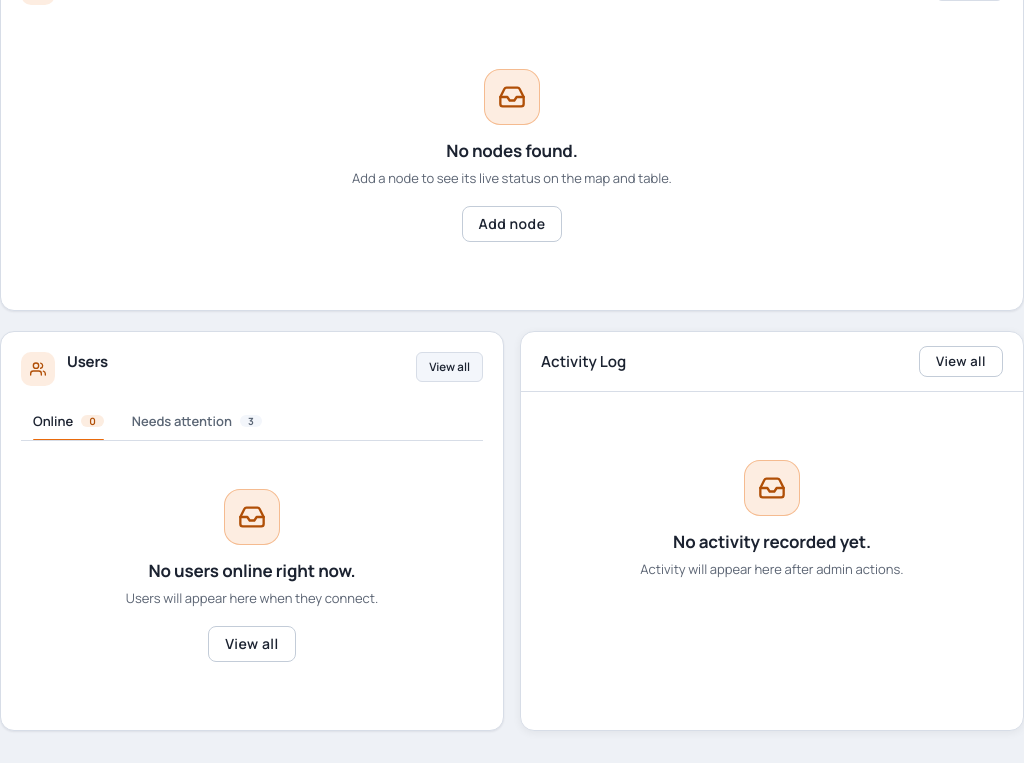
Test case: ServerStats resilience › lists users needing attention with reasons
(page scrolled)
Click the text "Needs attention".
click(182, 421)  # box top-left (132, 415), bottom-right (232, 428)
(page scrolled)
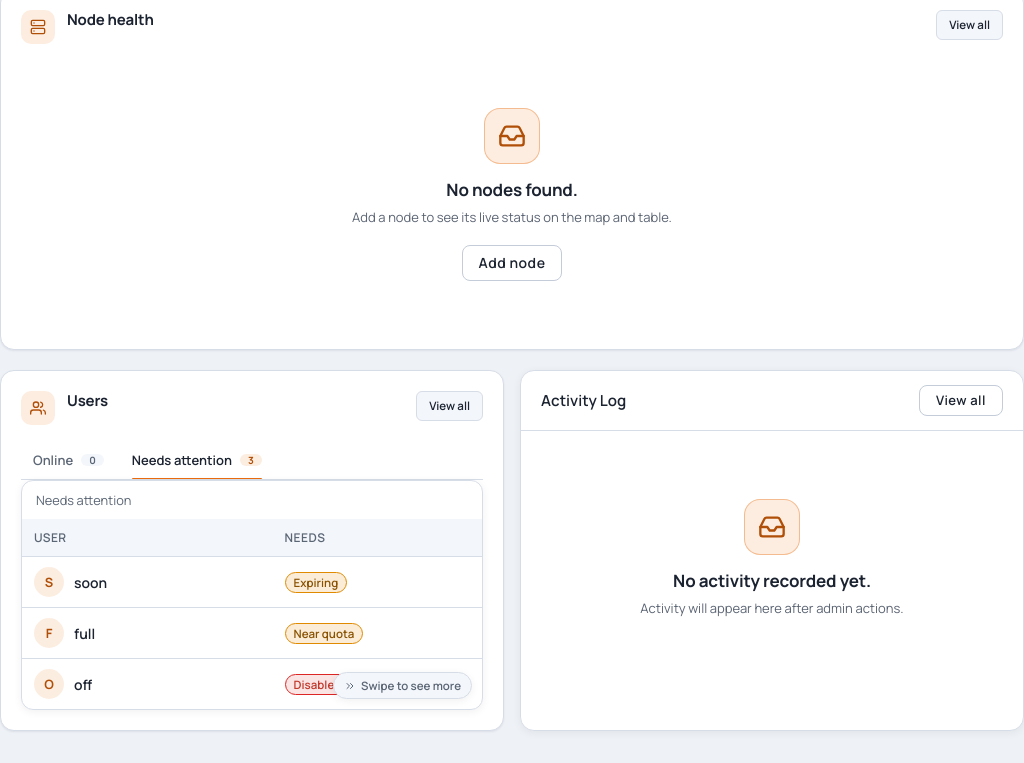
Expected: the text "soon" is shown, top-left (74, 573), bottom-right (107, 592)
Expected: the text "full" is shown, top-left (74, 624), bottom-right (95, 643)
Expected: the text "off" is shown, top-left (74, 675), bottom-right (92, 694)
